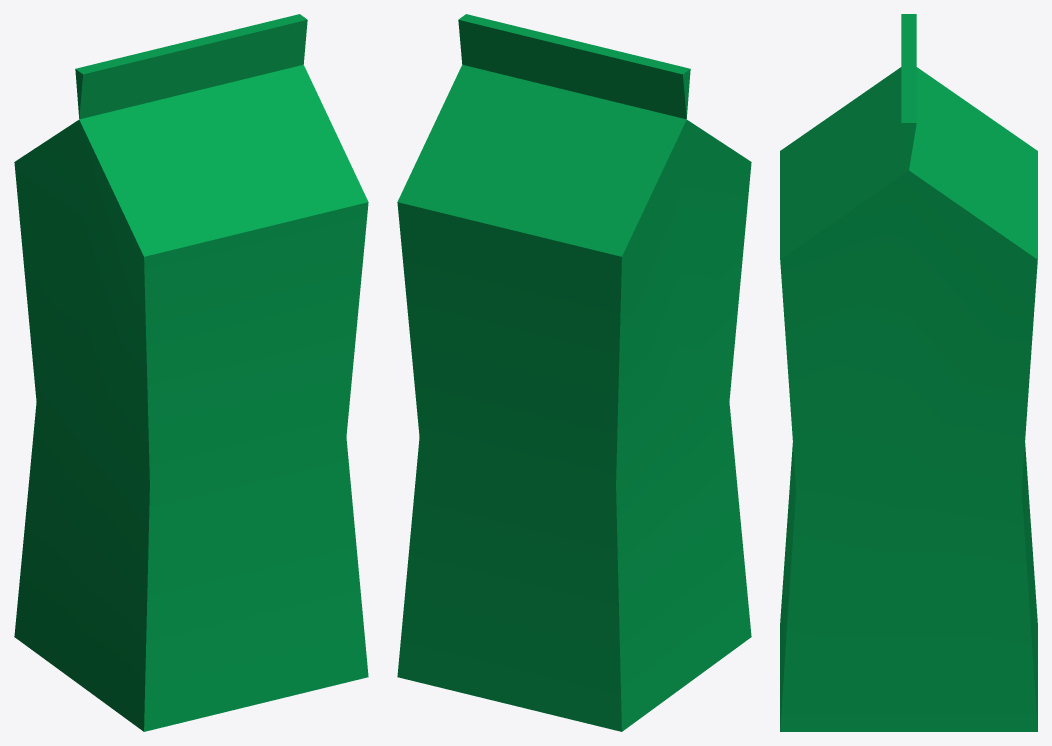
Rendered from prop_GarbageMilk02.fbx.
3 views of the same model, side by side, from view 1: azimuth 30°, elevation 25°; view 2: azimuth 150°, elevation 25°; view 3: azimuth 270°, elevation 25° (orthographic).
Visible parts, largest first — view 1: prop_Milk01; view 2: prop_Milk01; view 3: prop_Milk01.
Part boxes in pixels (x1=…): prop_Milk01: x1=14, y1=14, x2=368, y2=731; prop_Milk01: x1=397, y1=14, x2=751, y2=731; prop_Milk01: x1=780, y1=14, x2=1037, y2=731.
Size of the model in its own units: 23.92 by 62.38 by 23.92.
